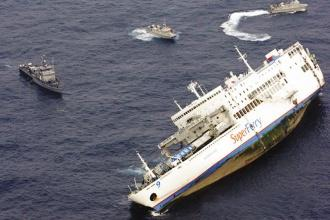otherboat: (128, 40, 322, 212)
warship: (16, 55, 83, 93), (141, 19, 179, 38), (268, 1, 311, 17)
